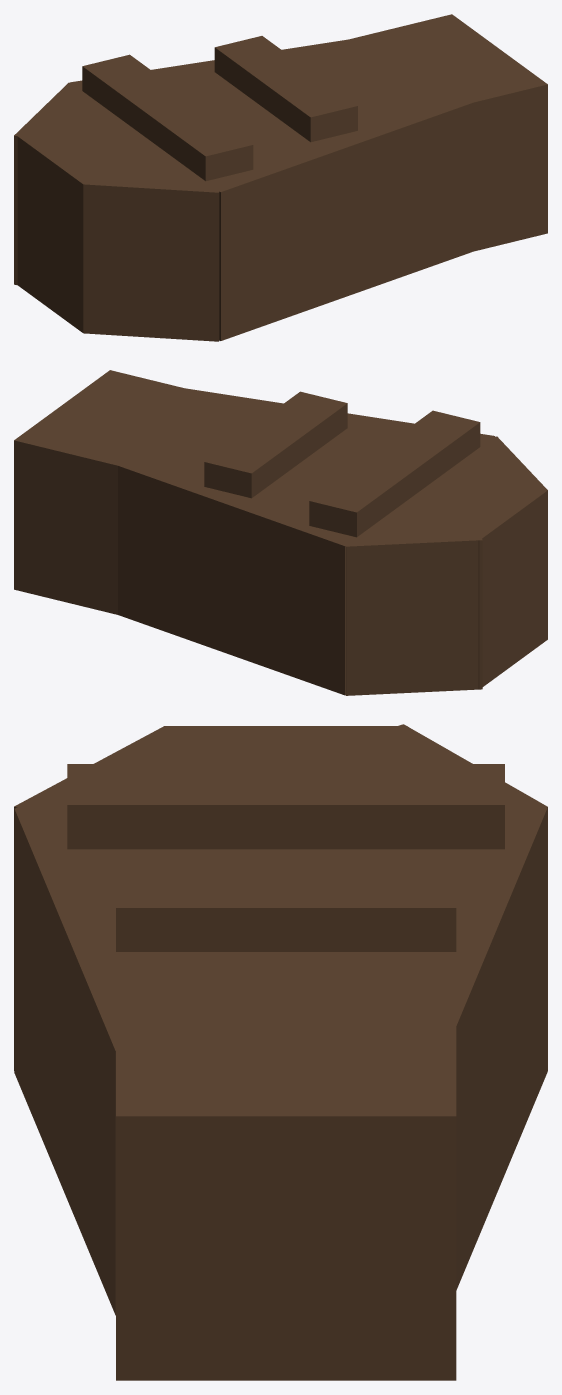
File: decoration_1x2_coffin.gltf
The picture shows the model from 3 angles, top to bottom: view 1: azimuth 30°, elevation 25°; view 2: azimuth 150°, elevation 25°; view 3: azimuth 270°, elevation 25°; orthographic projection. The views are drawn at different scales.
Visible parts, largest first — view 1: tombstone02-Local, tombstone23$$(1)-Local, tombstone21$$(1)-Local, tombstone22$$(1)-Local, tombstone24$$(1)-Local; view 2: tombstone02-Local, tombstone24$$(1)-Local, tombstone22$$(1)-Local, tombstone23$$(1)-Local, tombstone21$$(1)-Local; view 3: tombstone02-Local, tombstone24$$(1)-Local, tombstone23$$(1)-Local, tombstone21$$(1)-Local, tombstone22$$(1)-Local.
Boxes of the visible parts, x1,y1,x2,y2 form: tombstone02-Local: [15, 14, 547, 332]; tombstone23$$(1)-Local: [187, 103, 472, 340]; tombstone21$$(1)-Local: [83, 150, 223, 341]; tombstone22$$(1)-Local: [14, 82, 109, 285]; tombstone24$$(1)-Local: [70, 39, 346, 84]; tombstone02-Local: [14, 370, 547, 689]; tombstone24$$(1)-Local: [118, 466, 375, 695]; tombstone22$$(1)-Local: [343, 523, 482, 695]; tombstone23$$(1)-Local: [187, 388, 494, 457]; tombstone21$$(1)-Local: [467, 436, 547, 491]; tombstone02-Local: [67, 726, 504, 1380]; tombstone24$$(1)-Local: [351, 804, 547, 1290]; tombstone23$$(1)-Local: [14, 804, 208, 1315]; tombstone21$$(1)-Local: [14, 726, 180, 1070]; tombstone22$$(1)-Local: [288, 724, 547, 1070].
Size of the model in its own units: 19.08 by 7 by 10.98.
Materials: 5 (5 with a texture image).
